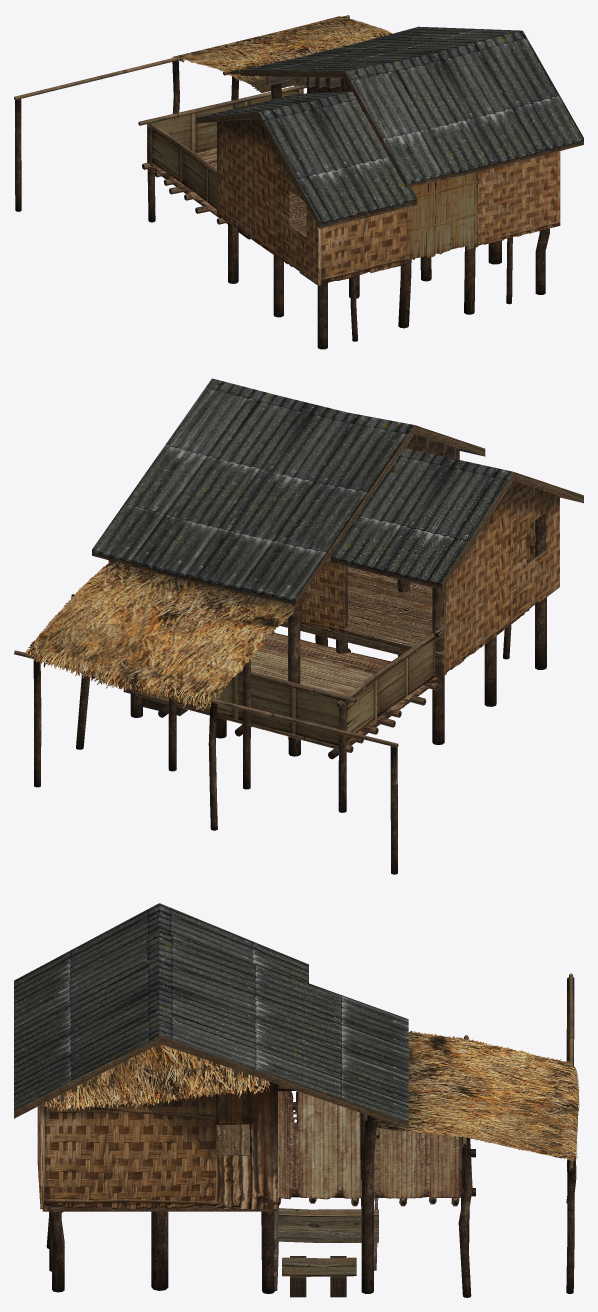
File: House 04.FBX
3 views of the same model, one above another, from view 1: azimuth 30°, elevation 25°; view 2: azimuth 150°, elevation 25°; view 3: azimuth 270°, elevation 25° (orthographic). The views are drawn at different scales.
Visible parts, largest first — view 1: House 04; view 2: House 04; view 3: House 04.
Boxes of the visible parts, x1,y1,x2,y2 form: House 04: (14,15,583,349); House 04: (14,378,583,874); House 04: (14,903,579,1297).
Size of the model in its own units: 44.58 by 28.61 by 54.46.
